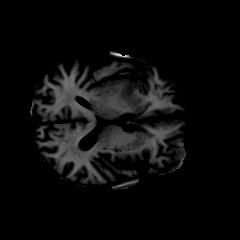glioma: (89, 65, 141, 108)
